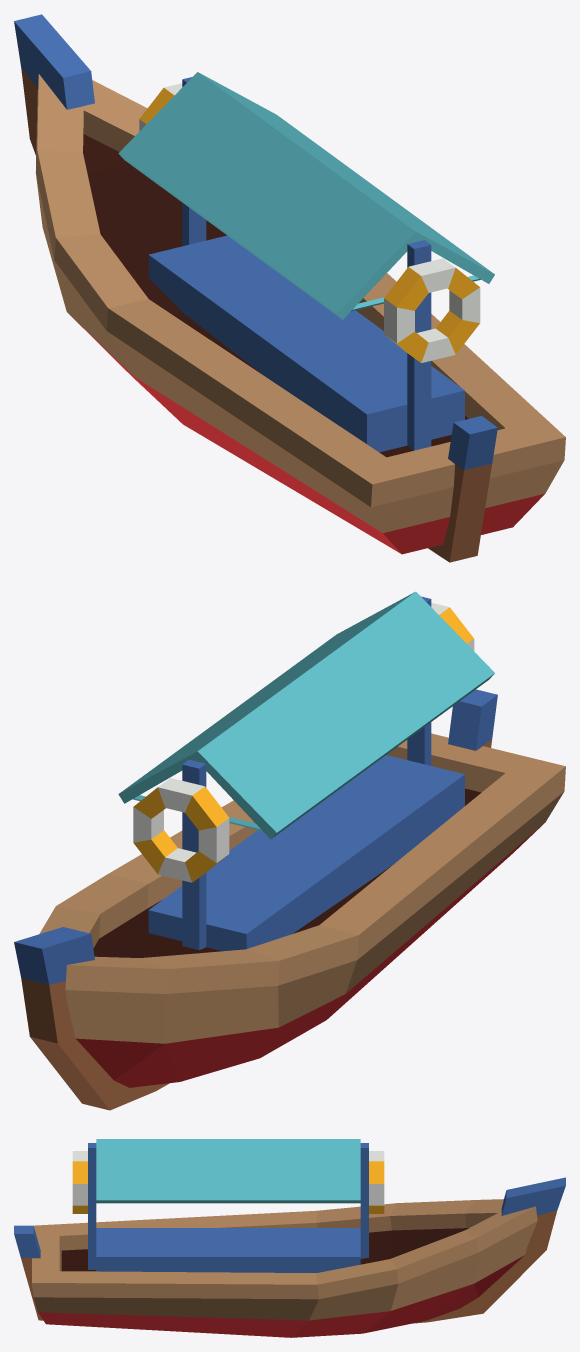
Rendered from abraBoat.FBX.
3 renders of one model, top to bottom at view 1: azimuth 30°, elevation 25°; view 2: azimuth 150°, elevation 25°; view 3: azimuth 270°, elevation 25°, orthographic. The views are drawn at different scales.
Parts seen in each view (by area): view 1: abraBoat; view 2: abraBoat; view 3: abraBoat.
Boxes of the visible parts, bbox=[...] form: abraBoat: bbox=[14, 14, 565, 562]; abraBoat: bbox=[14, 591, 565, 1110]; abraBoat: bbox=[14, 1139, 565, 1337].
Bounding box in the file's own units: 0.4754 × 0.5571 × 1.5.
